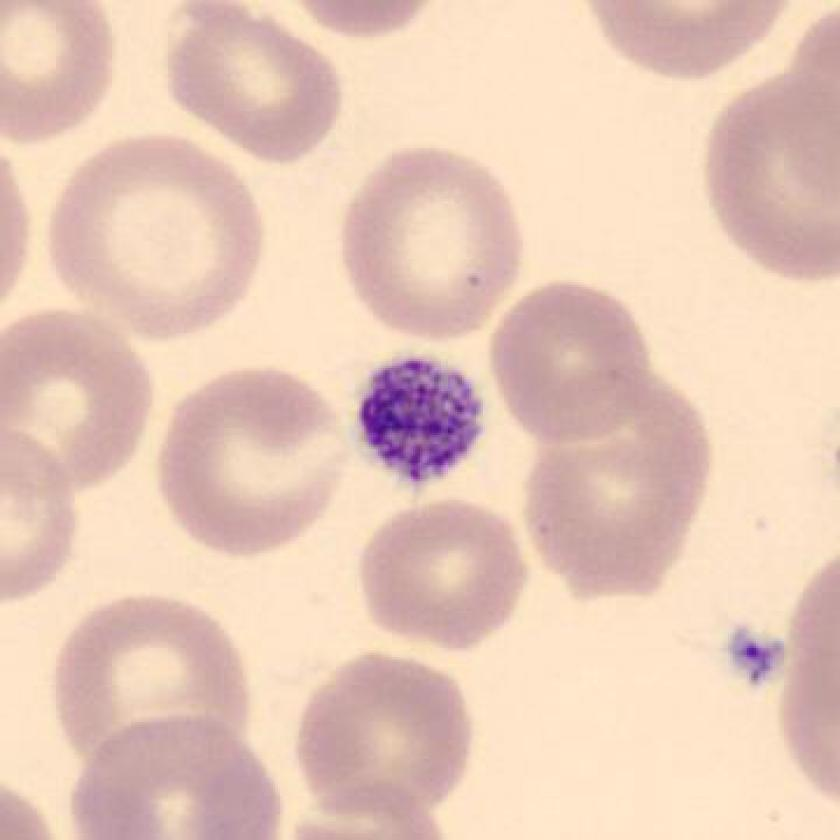platelets: (353, 346, 491, 492), (717, 605, 799, 695)
